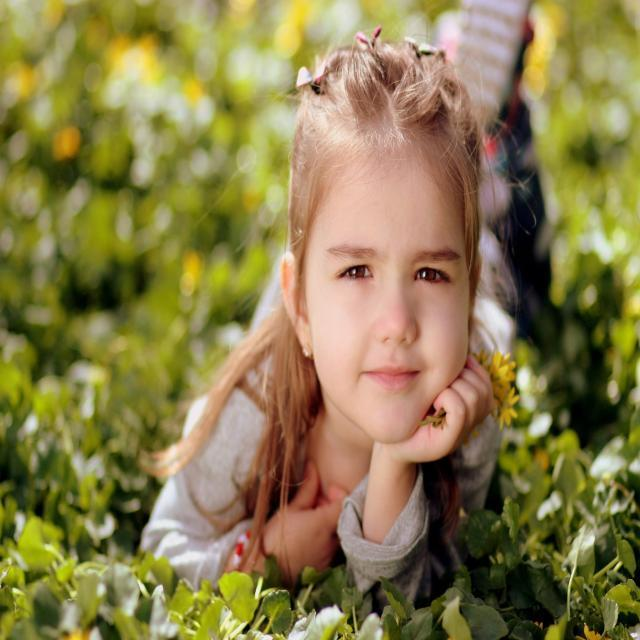non-dog: (131, 34, 513, 606)
